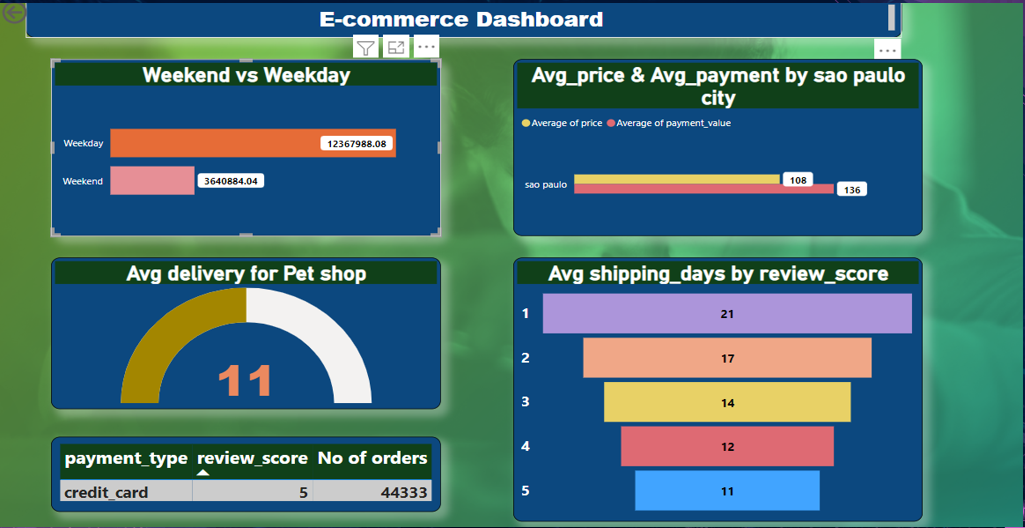

Layout of this report page (visuals, bound fields, positions):
{"tool":"tableau","page":{"name":"Dashboard 4","canvas":[1000,1000],"units":"permille","ordinal":3},"visuals":[{"type":"blank","box":[0,0,1000,17.6]},{"type":"filter","title":"KPI4.1","param":"[federated.127wc8918z9zki14frpf21odrj9i].[yr:order_purchase_timestamp:ok]","box":[898.6,9.4,96.6,150.4]},{"type":"dashboard-object","box":[0,17.6,60.4,117.5]},{"type":"image","param":"C:/Users/afrin/Downloads/pricepay.jpg","box":[60.4,17.6,70,117.5]},{"type":"text","box":[130.3,17.6,713.3,117.5]},{"type":"dashboard-object","box":[843.7,17.6,156.3,117.5]},{"type":"blank","box":[0,135.1,1000,17.6]},{"type":"worksheet","title":"KPI4.1","mark":"Automatic","box":[0,152.8,1000,423]},{"type":"worksheet","title":"KPI-4.2","mark":"Automatic","rows":["product_category_name"],"cols":["payment_value"],"box":[0,575.8,500.3,424.2]},{"type":"worksheet","title":"KPI-4.3","mark":"Bar","cols":["order_purchase_timestamp"],"box":[500.3,575.8,499.7,424.2]}]}

Visuals, with their boxes on the dashboard's canvas, which has no fixed pixel size, in thousandths of its width and height (x1, y1, x2, y2). These are canvas units, not pixel positions in the 1025x528 screenshot, which may show the page scaled, cropped or inside an application window:
blank: region(0, 0, 1000, 18)
"KPI4.1" filter: region(899, 9, 995, 160)
dashboard-object: region(0, 18, 60, 135)
image: region(60, 18, 130, 135)
text: region(130, 18, 844, 135)
dashboard-object: region(844, 18, 1000, 135)
blank: region(0, 135, 1000, 153)
"KPI4.1" worksheet: region(0, 153, 1000, 576)
"KPI-4.2" worksheet: region(0, 576, 500, 1000)
"KPI-4.3" worksheet (Bar marks): region(500, 576, 1000, 1000)
